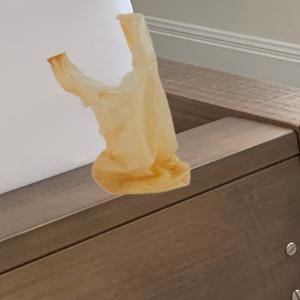plastic_bag: (46, 10, 196, 198)
